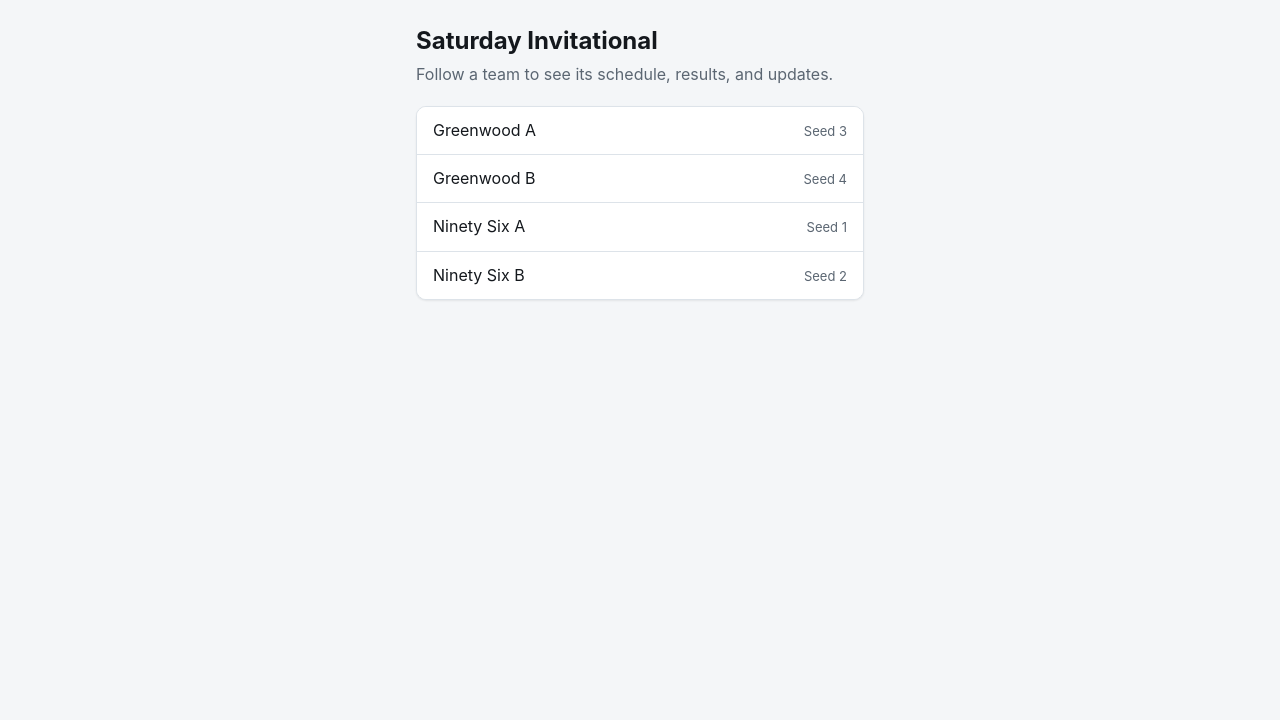
Test: following a team › asks for a team and then shows its next event, with no account of any kind
Click the button "Ninety Six A Seed 1": (479, 226) [417, 203, 863, 252]
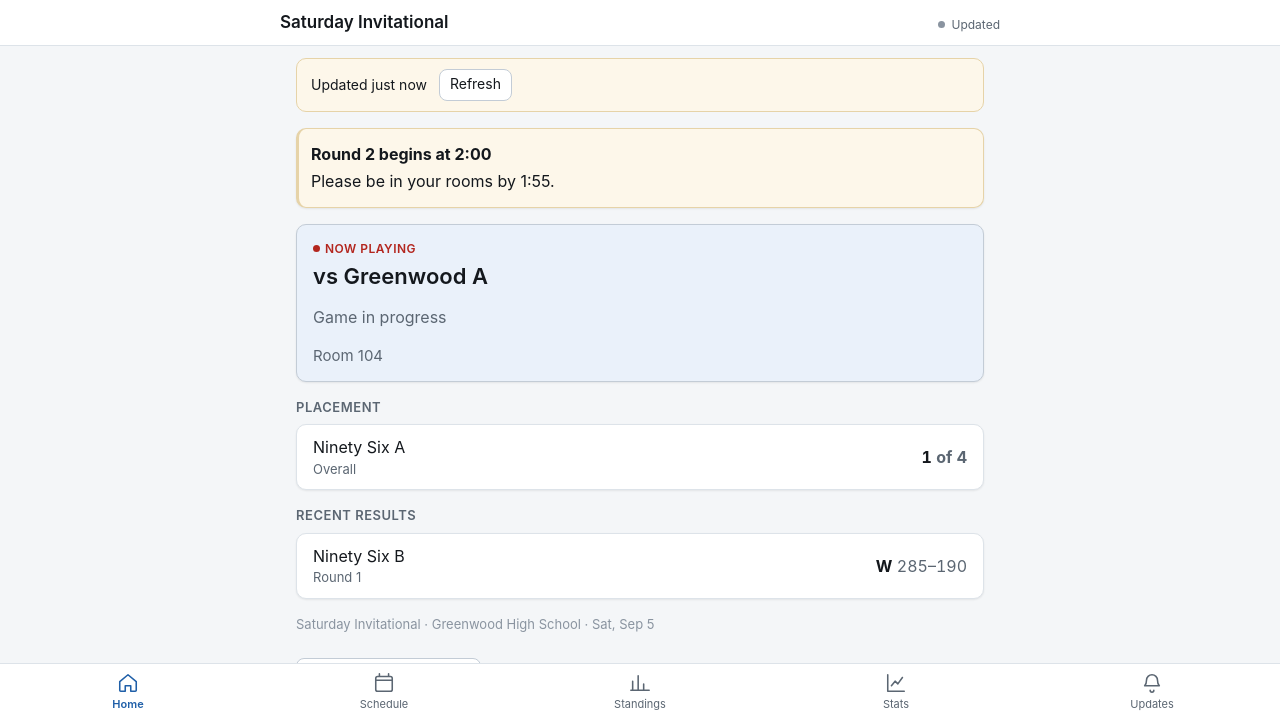
Expected: the navigation bar named "Sections" is shown, [0, 663, 1279, 719]
